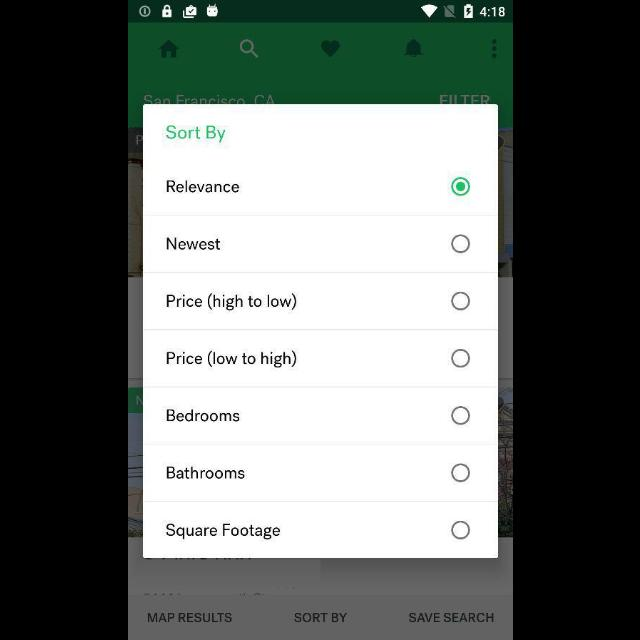checkbox: (450, 348, 470, 368), (450, 406, 470, 426), (450, 177, 470, 196), (450, 234, 470, 253), (450, 463, 470, 482), (450, 292, 470, 310), (450, 521, 470, 539)
icon: (238, 40, 258, 59), (158, 40, 178, 58), (320, 41, 340, 58), (404, 40, 422, 58), (490, 40, 496, 59)
panel: (143, 104, 497, 558)
text: (166, 292, 296, 312), (166, 349, 296, 368), (166, 524, 280, 540), (166, 125, 224, 143), (166, 466, 244, 479), (166, 180, 238, 193), (166, 410, 240, 422), (409, 613, 493, 623), (148, 614, 232, 622), (166, 238, 220, 250), (294, 614, 346, 622)
uppertaskbar: (128, 1, 512, 23)
